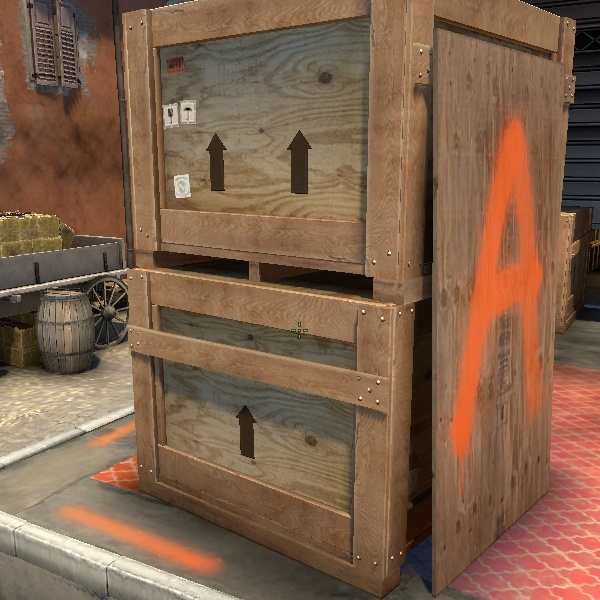ct_body: (81, 266, 132, 354)
